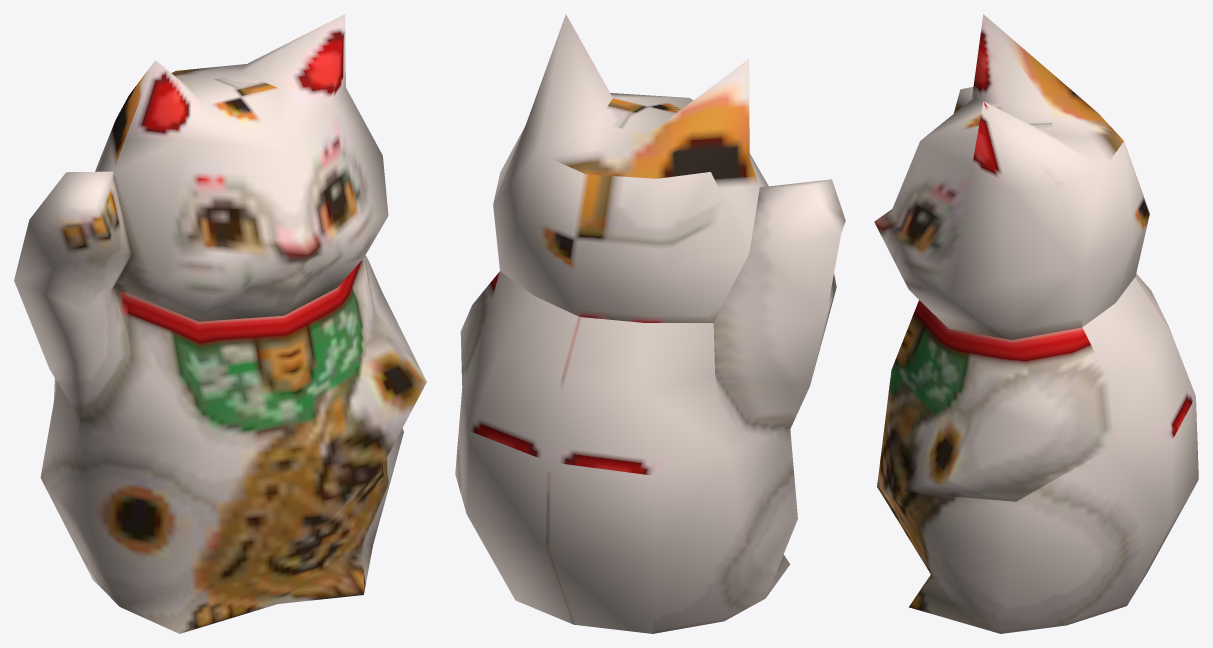
Rendered from int_cat_whiteR.dae.
3 renders of one model, left to right at view 1: azimuth 30°, elevation 25°; view 2: azimuth 150°, elevation 25°; view 3: azimuth 270°, elevation 25°, orthographic. The views are drawn at different scales.
Parts seen in each view (by area): view 1: int_cat_whiteR; view 2: int_cat_whiteR; view 3: int_cat_whiteR.
Part boxes in pixels (x1,y1,x2,y2): int_cat_whiteR: [14, 14, 426, 633]; int_cat_whiteR: [455, 14, 845, 633]; int_cat_whiteR: [874, 14, 1198, 633].
Bounding box in the file's own units: 26.98 × 37.62 × 21.47.
1 material, 1 textured.
